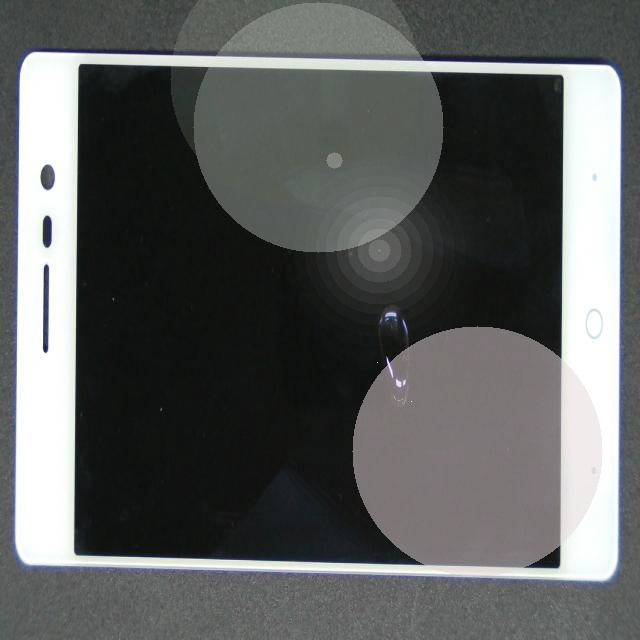oil: (197, 124, 572, 461)
